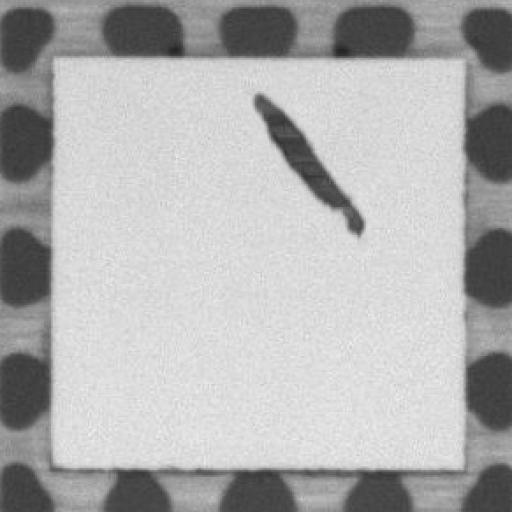DIE_INK: (245, 84, 366, 237)
